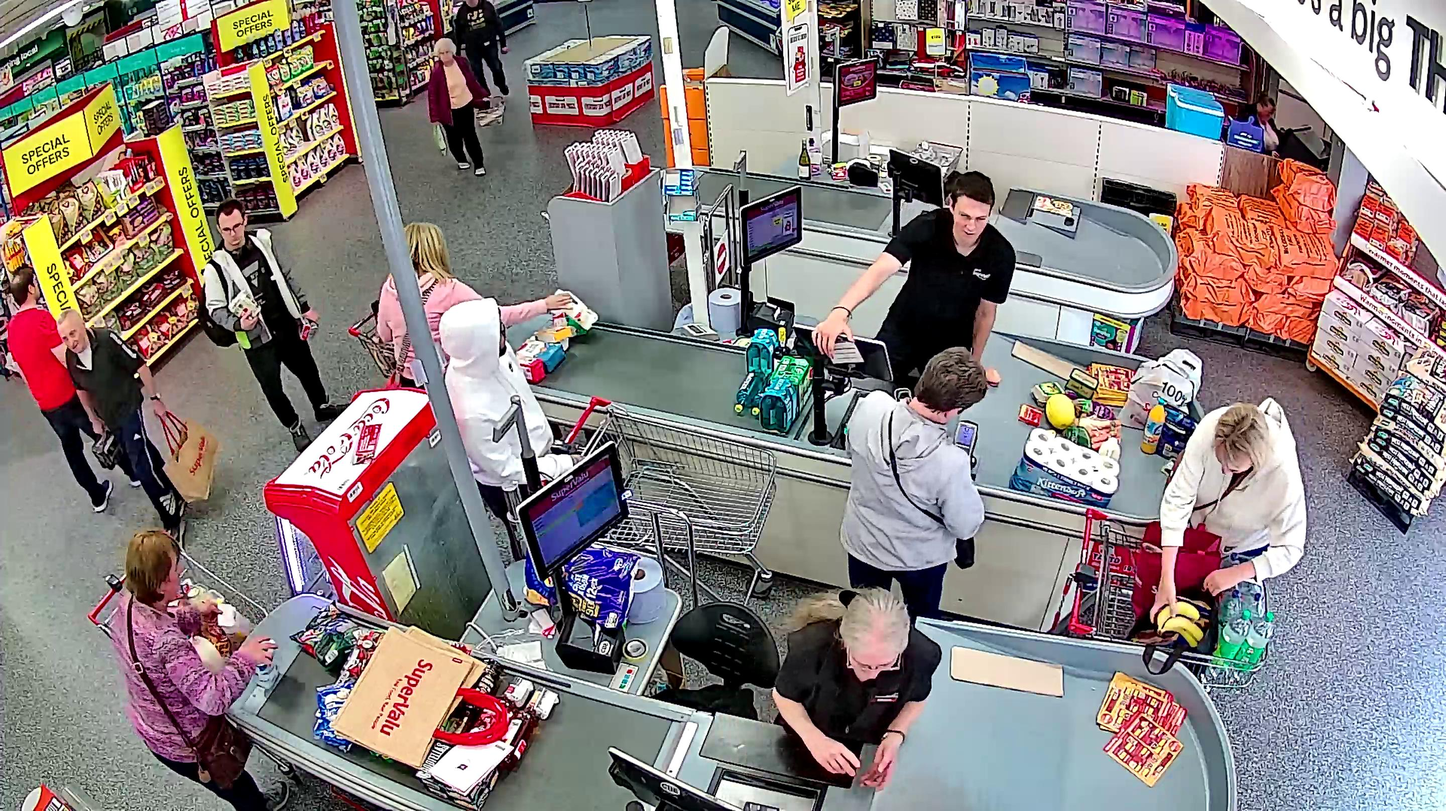backpack-or-handbag: (194, 283, 235, 349)
carrying-item: (89, 426, 124, 470), (228, 289, 262, 325), (297, 313, 321, 341)
filled-basket: (475, 91, 506, 128)
filled-shopping-bags: (156, 411, 219, 505), (433, 124, 448, 157)
occupied-checkout-counter: (514, 439, 943, 811), (733, 185, 1015, 479)
person: (206, 200, 351, 451), (58, 310, 180, 534), (428, 38, 488, 177)
person with carrying item-s- and shopping bag-s-: (58, 310, 220, 533)
person-with-backpack-handbag-and-carrying-item-s-: (194, 200, 351, 452)
person-with-basket-trolly-and-shopping-bag: (429, 38, 506, 176)
vacant-checkout-counter: (827, 49, 1026, 252)
